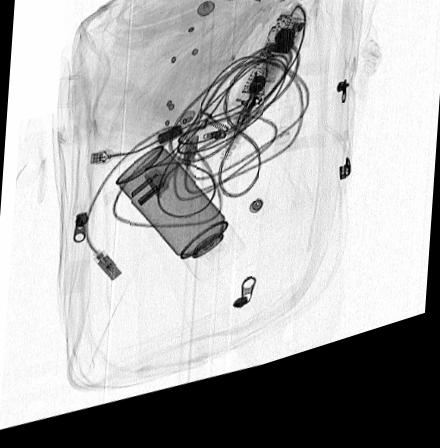Sprayer: (116, 153, 250, 292)
